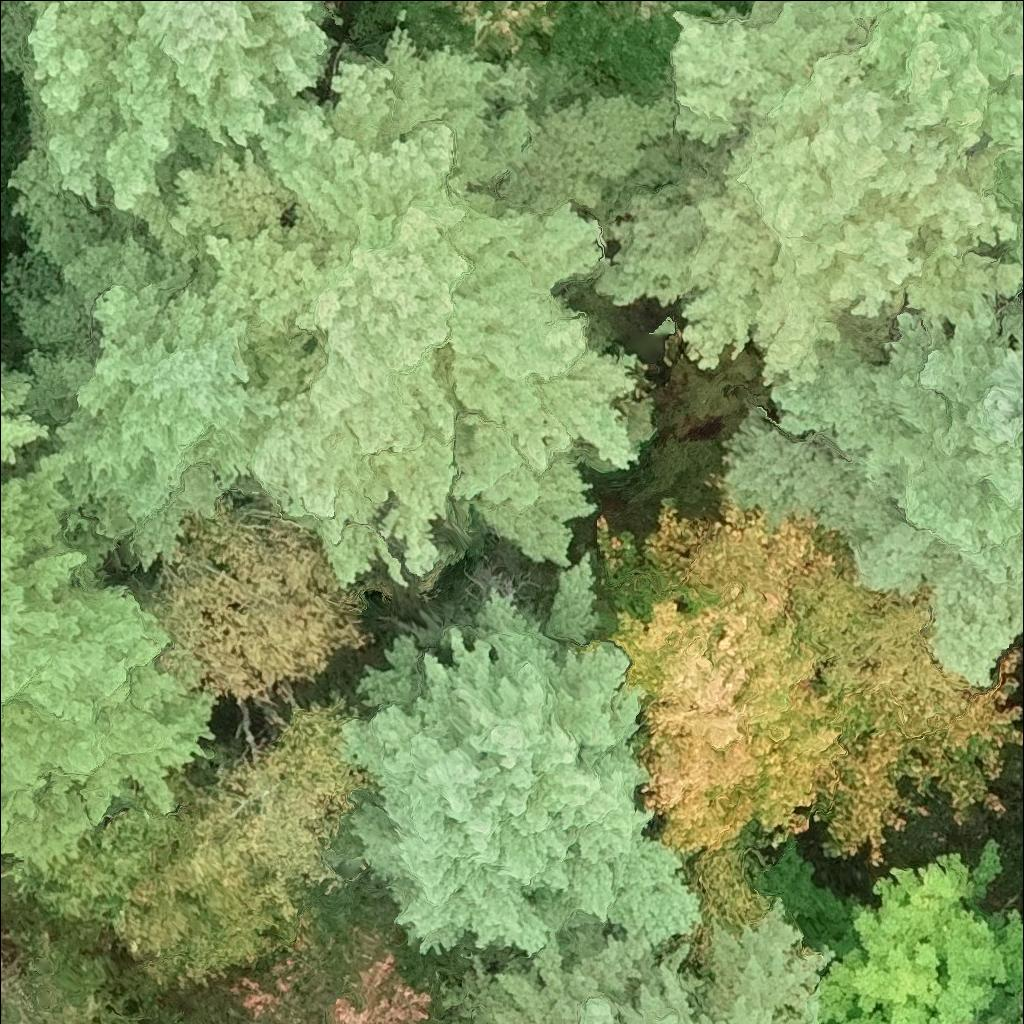crown: (166, 10, 677, 588), (584, 0, 1023, 400), (329, 549, 706, 972), (642, 492, 1023, 868), (715, 289, 1023, 695), (0, 226, 281, 575), (0, 443, 218, 871), (0, 0, 341, 268), (109, 696, 374, 999), (601, 585, 853, 856), (436, 892, 839, 1023), (141, 492, 370, 703), (192, 881, 457, 1023), (820, 838, 1023, 1023), (553, 0, 745, 95), (371, 0, 564, 59), (0, 357, 57, 489), (999, 906, 1023, 980), (959, 1008, 1023, 1023)
